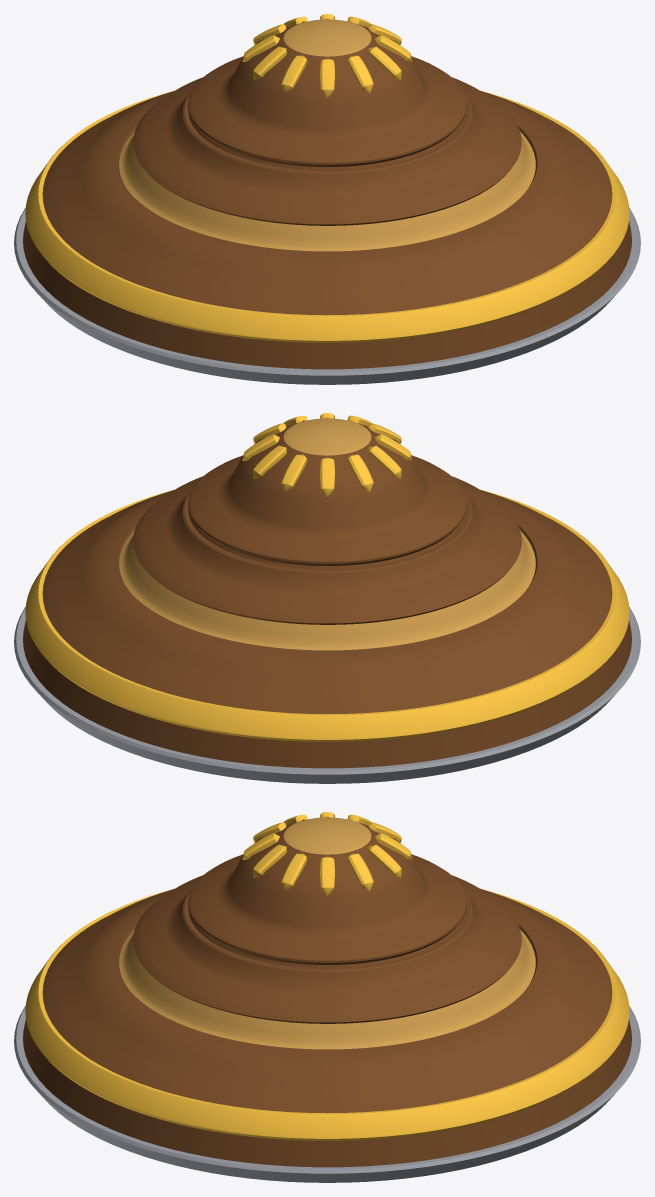
Rendered from gasing_pakdin.glb.
The picture shows the model from 3 angles, top to bottom: view 1: azimuth 30°, elevation 25°; view 2: azimuth 150°, elevation 25°; view 3: azimuth 270°, elevation 25°; orthographic projection.
Visible parts, largest first — view 1: Gasing_pakdin; view 2: Gasing_pakdin; view 3: Gasing_pakdin.
Boxes of the visible parts, bbox=[...] form: Gasing_pakdin: bbox=[14, 14, 640, 384]; Gasing_pakdin: bbox=[14, 413, 640, 783]; Gasing_pakdin: bbox=[14, 812, 640, 1182].
Bounding box in the file's own units: 1.12 × 0.61 × 1.12.
